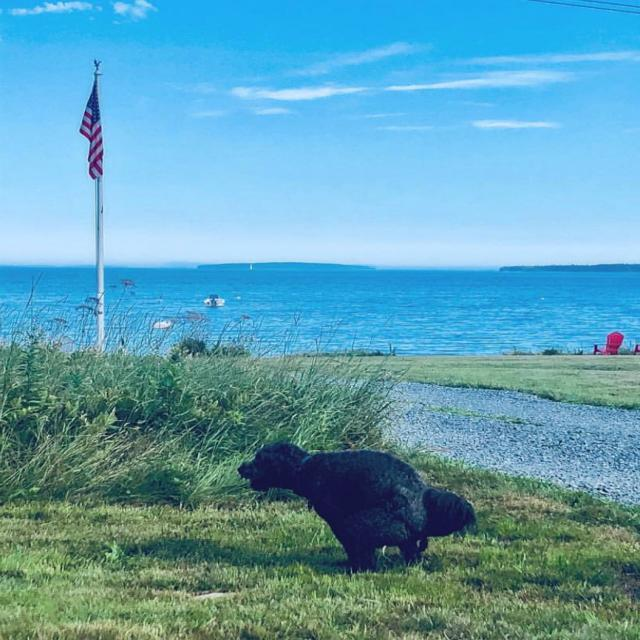squatting: (237, 435, 486, 578)
